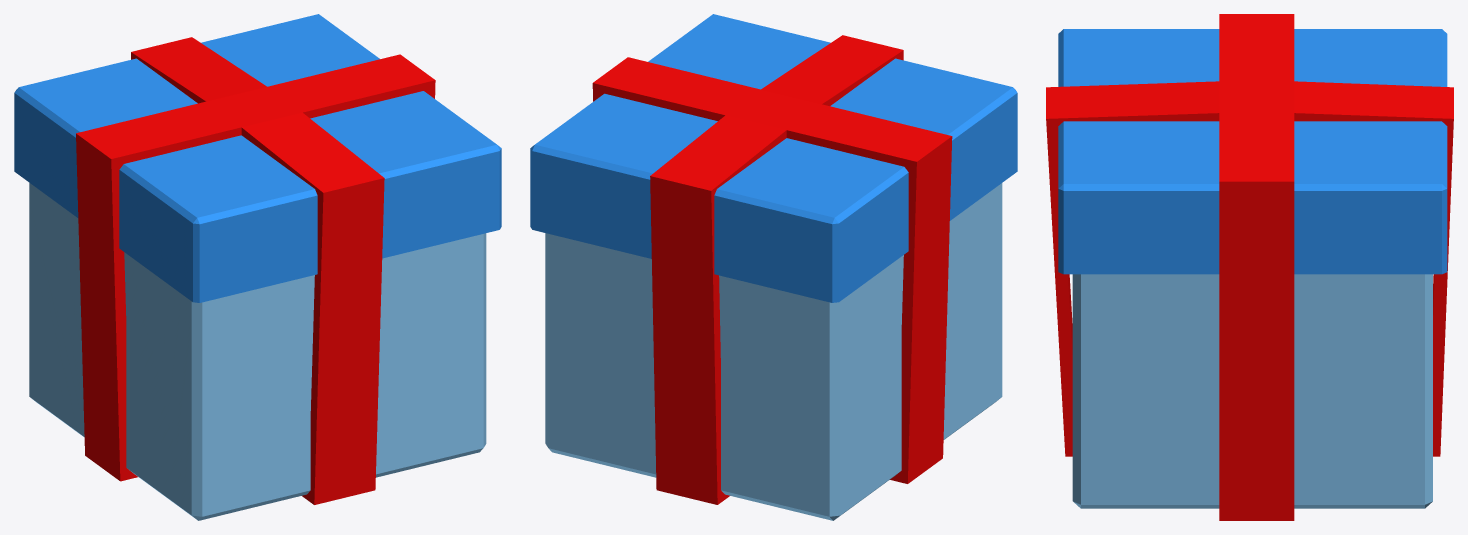
File: present_simple_blue.fbx
The picture shows the model from 3 angles, left to right: view 1: azimuth 30°, elevation 25°; view 2: azimuth 150°, elevation 25°; view 3: azimuth 270°, elevation 25°; orthographic projection. The views are drawn at different scales.
Parts seen in each view (by area): view 1: Present, Cover, Ribbon; view 2: Present, Cover, Ribbon; view 3: Present, Cover, Ribbon.
Part boxes in pixels (x1,y1,x2,y2): Present: (29,183,486,520); Cover: (14,14,501,302); Ribbon: (76,37,435,504); Present: (545,183,1002,520); Cover: (530,14,1017,302); Ribbon: (592,35,952,504); Present: (1072,274,1432,508); Cover: (1058,29,1447,274); Ribbon: (1046,14,1453,520).
Size of the model in its own units: 22.01 by 21.05 by 22.64.
